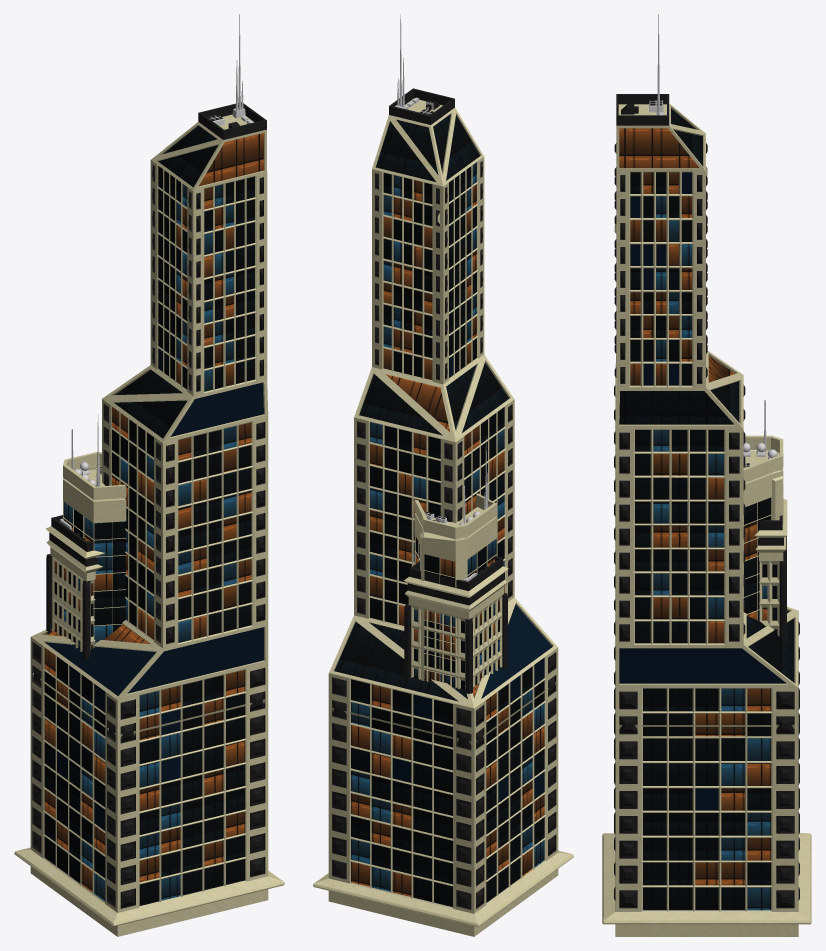
Rendered from harbor-architecture.glb.
The picture shows the model from 3 angles, left to right: view 1: azimuth 30°, elevation 25°; view 2: azimuth 150°, elevation 25°; view 3: azimuth 270°, elevation 25°; orthographic projection. The views are drawn at different scales.
Parts seen in each view (by area): view 1: Spire Tower, Terrace House, Crown Tower; view 2: Spire Tower, Terrace House, Crown Tower; view 3: Spire Tower, Terrace House, Crown Tower.
Part boxes in pixels (x1,y1,x2,y2): Spire Tower: [14, 14, 284, 936]; Terrace House: [33, 429, 264, 891]; Crown Tower: [63, 414, 126, 648]; Spire Tower: [313, 14, 573, 936]; Terrace House: [332, 486, 555, 893]; Crown Tower: [414, 437, 497, 688]; Spire Tower: [602, 14, 811, 936]; Terrace House: [619, 400, 794, 890]; Crown Tower: [743, 435, 783, 620].
Size of the model in its own units: 22.98 by 111 by 22.98.
Materials: 4 (4 with a texture image).
